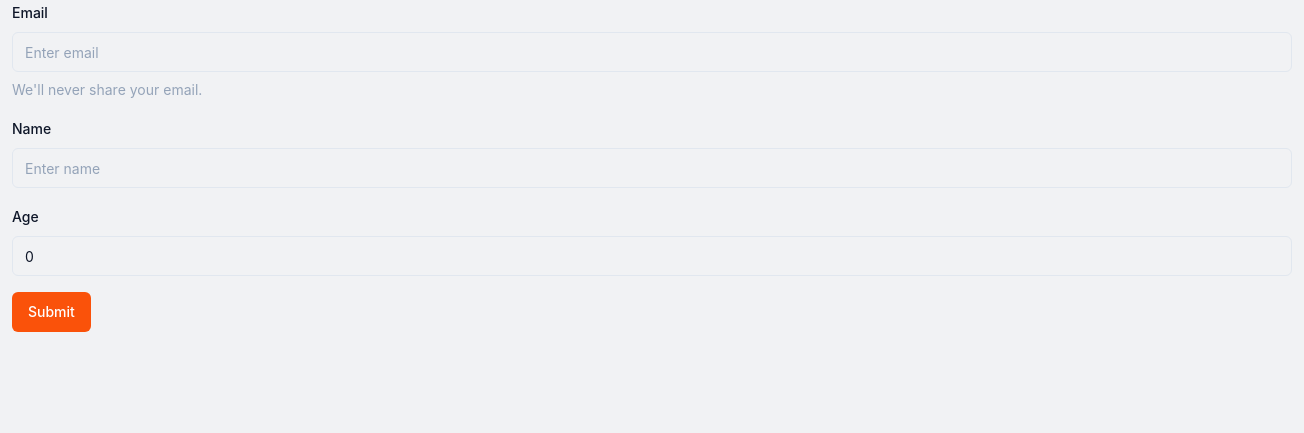
Form Components › Form Integration › shows validation errors for invalid data
Type "invalid-email" into the field with placeholder "Enter email" at (652, 52), box [12, 32, 1292, 72]
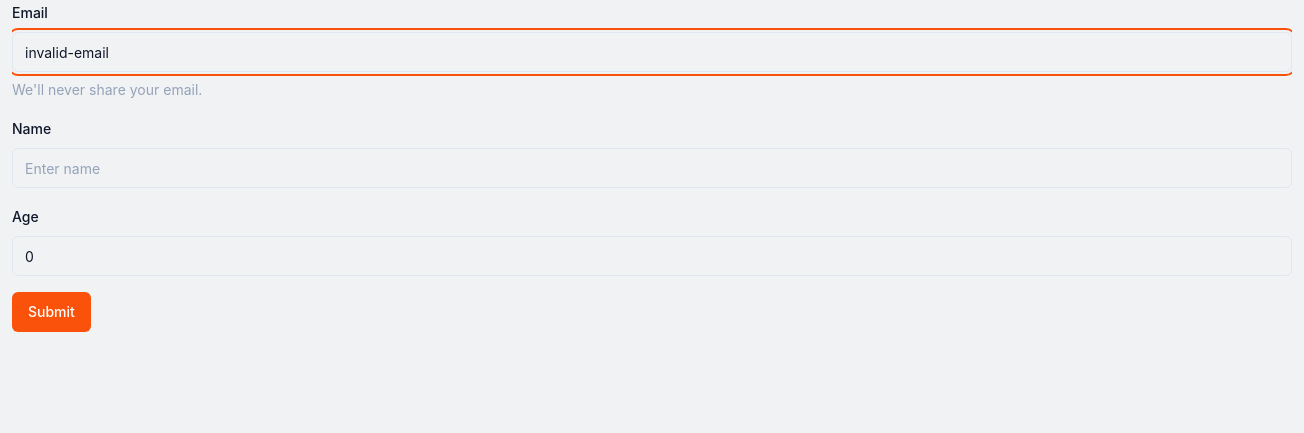
Type "A" into the field with placeholder "Enter name" at (652, 168), box [12, 148, 1292, 188]
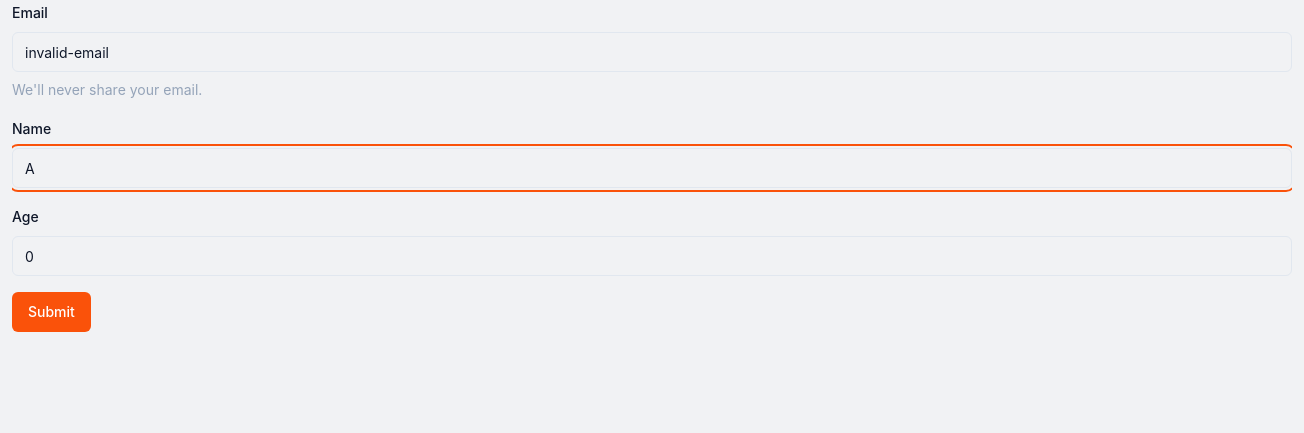
Type "16" into the number field with placeholder "Enter age" at (652, 256), box [12, 236, 1292, 276]
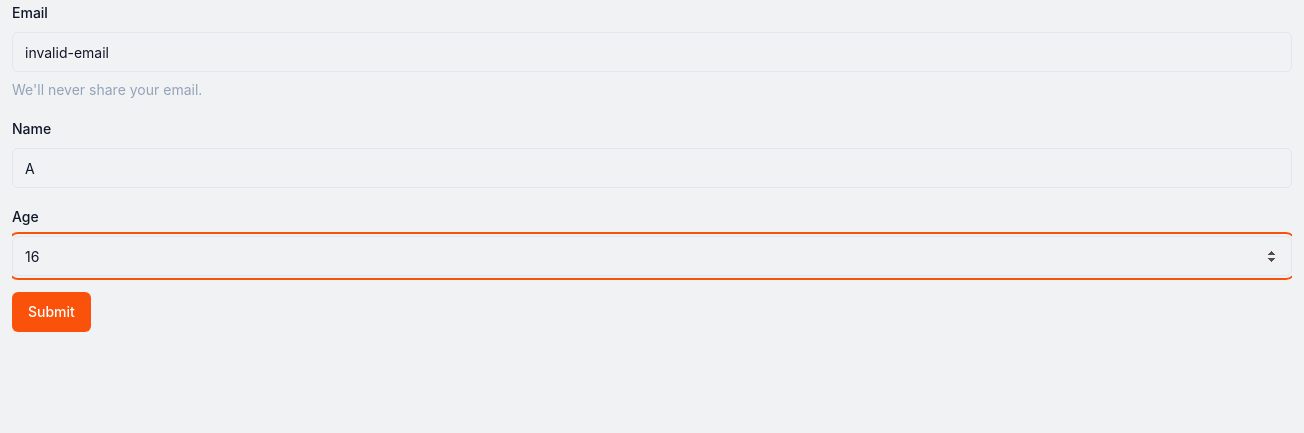
Click the button "Submit" at (51, 312), box [12, 292, 91, 332]
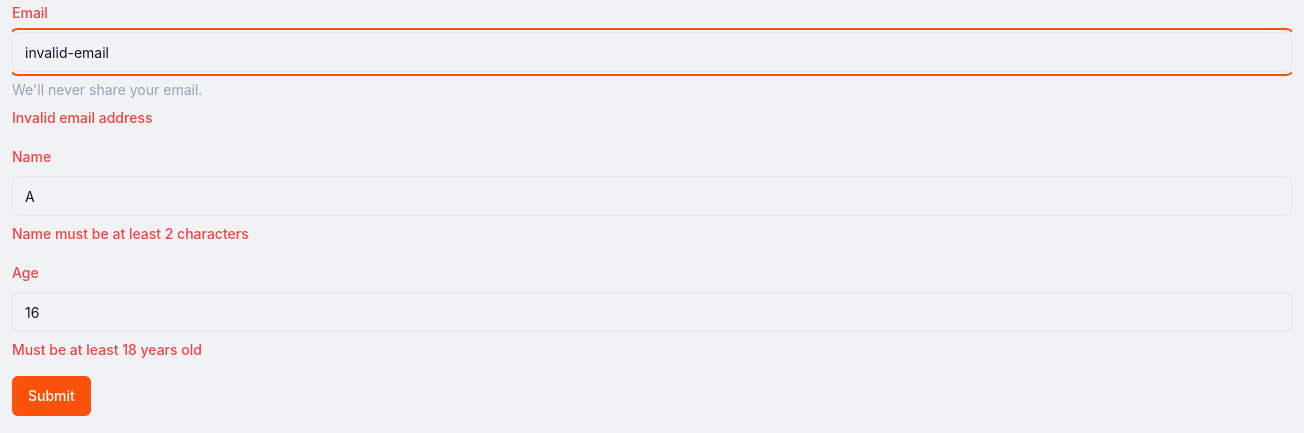
Result: the text "Invalid email address" is shown at [12, 109, 152, 126]
Result: the text "Name must be at least 2 characters" is shown at [12, 225, 249, 242]
Result: the text "Must be at least 18 years old" is shown at [12, 341, 202, 358]
